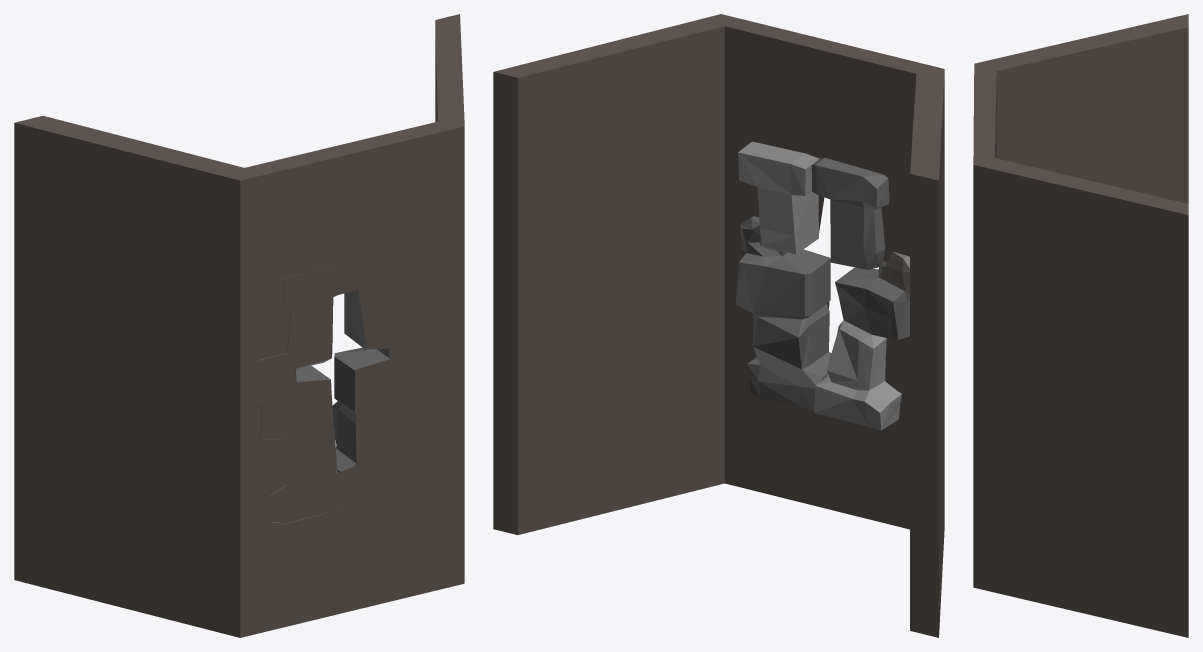
The model's file is MCastle_SmallTurret_Int_00.FBX.
3 renders of one model, left to right at view 1: azimuth 30°, elevation 25°; view 2: azimuth 150°, elevation 25°; view 3: azimuth 270°, elevation 25°, orthographic. The views are drawn at different scales.
Parts seen in each view (by area): view 1: MCastle_SmallTurret_Int_00_LOD0; view 2: MCastle_SmallTurret_Int_00_LOD0; view 3: MCastle_SmallTurret_Int_00_LOD0.
Boxes of the visible parts, <box> form: MCastle_SmallTurret_Int_00_LOD0: <box>14,14,464,637</box>; MCastle_SmallTurret_Int_00_LOD0: <box>493,14,944,637</box>; MCastle_SmallTurret_Int_00_LOD0: <box>973,14,1188,637</box>.
Size of what is drawn, in the model's own units: 4.59 by 4.5 by 2.07.
